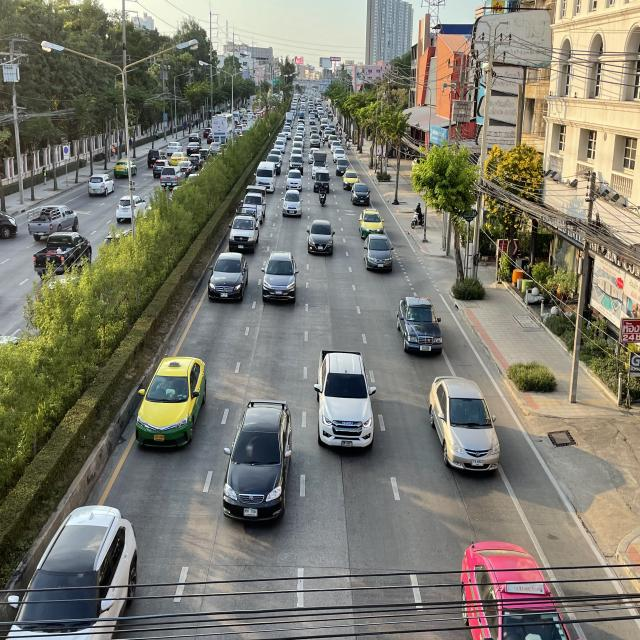bike: (318, 182, 328, 207)
car: (5, 501, 138, 640), (460, 536, 572, 640), (221, 396, 292, 528), (427, 372, 502, 478), (132, 352, 208, 451), (315, 345, 378, 458), (396, 294, 444, 359), (206, 251, 249, 303), (262, 249, 298, 304), (363, 233, 394, 274), (359, 208, 385, 240)
truck: (228, 210, 260, 254), (241, 184, 267, 223)
